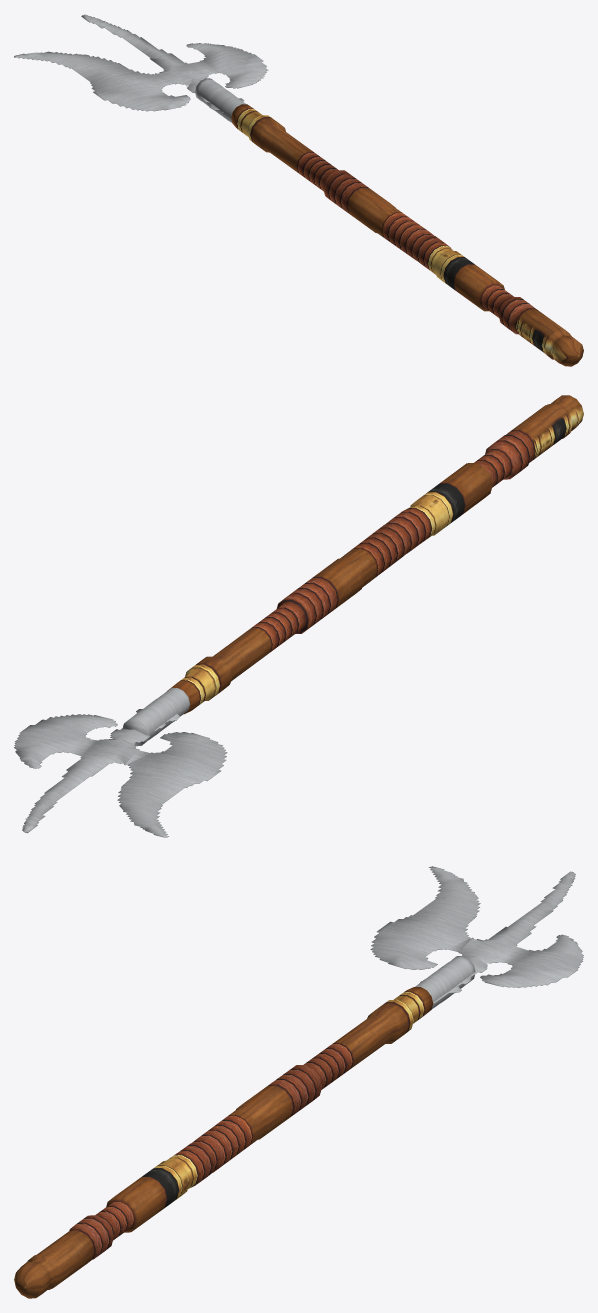
Rendered from item_7item037.glb.
3 renders of one model, top to bottom at view 1: azimuth 30°, elevation 25°; view 2: azimuth 150°, elevation 25°; view 3: azimuth 330°, elevation 25°, orthographic. The views are drawn at different scales.
Parts seen in each view (by area): view 1: pole_7item037; view 2: pole_7item037; view 3: pole_7item037.
Part boxes in pixels (box(x1,y1,x2,y2)): pole_7item037: box(14, 14, 583, 366); pole_7item037: box(14, 395, 583, 837); pole_7item037: box(14, 866, 583, 1298).
Bounding box in the file's own units: 0.4406 × 0.0741 × 2.
1 material, 1 textured.
